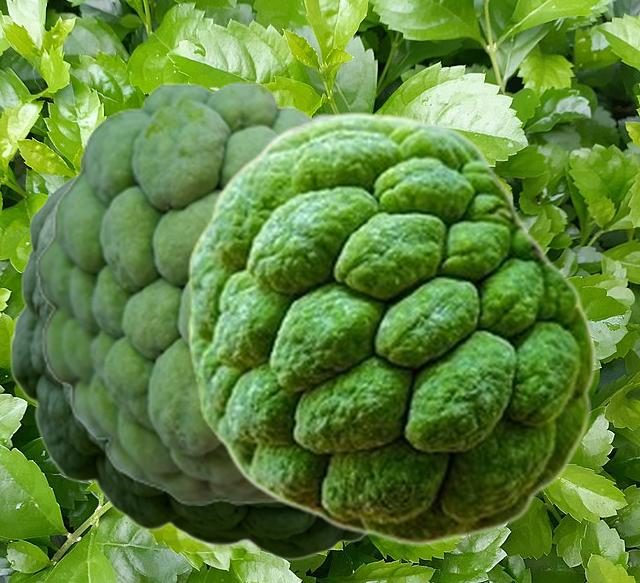atis: (187, 110, 596, 545), (9, 110, 368, 560), (34, 81, 316, 504)
